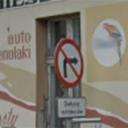NoVirarDireita: (49, 36, 89, 90)
